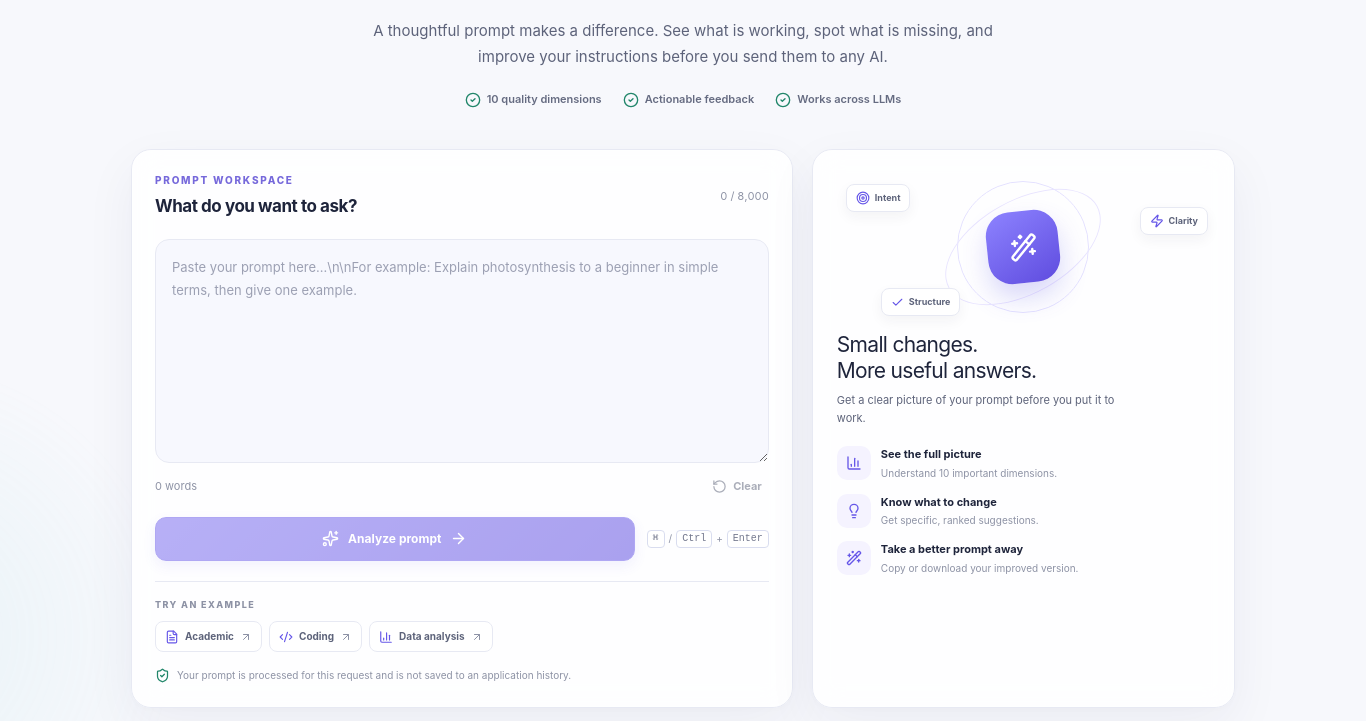
Test: Prompt Quality Analyzer UI › shows a useful error if the analysis API fails
(page scrolled)
Replace the text in the text box named "enter the prompt" with "Explain photosynthesis": point(462, 351) [155, 239, 769, 463]
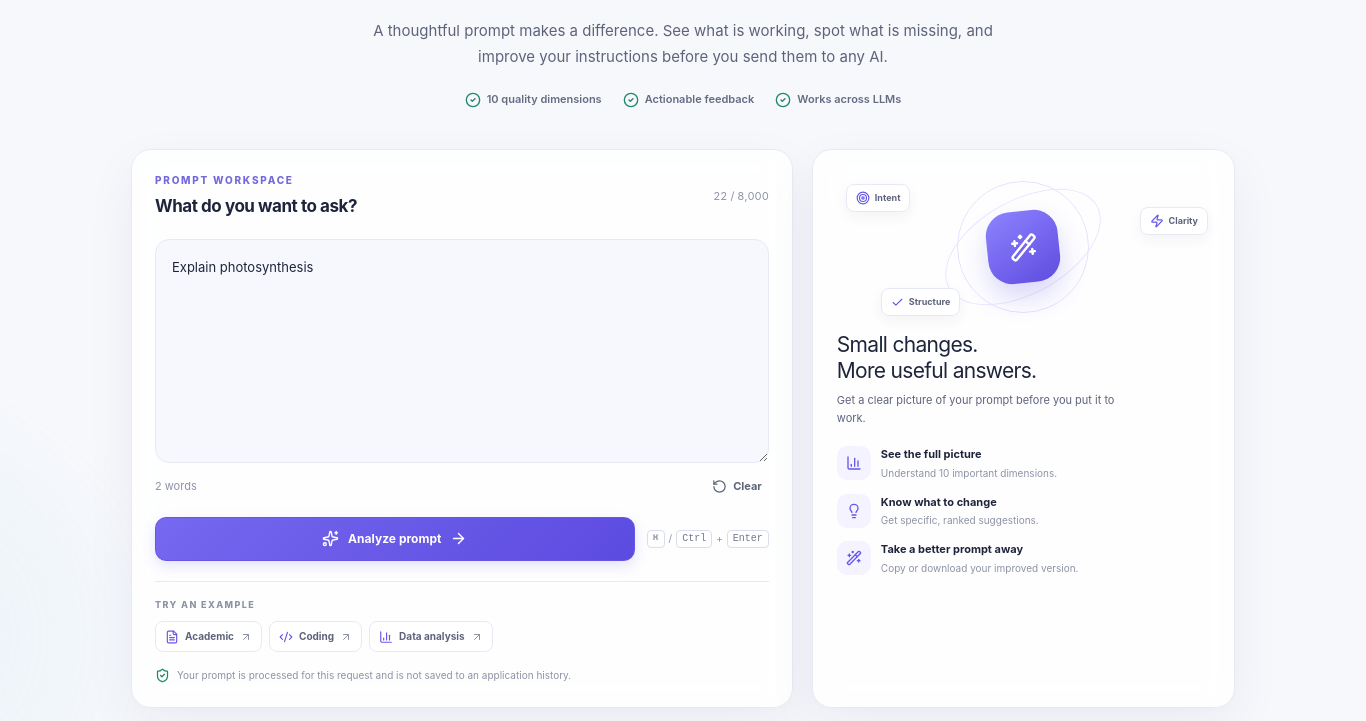
Click the button "Analyze prompt": point(395, 539) [155, 517, 634, 561]
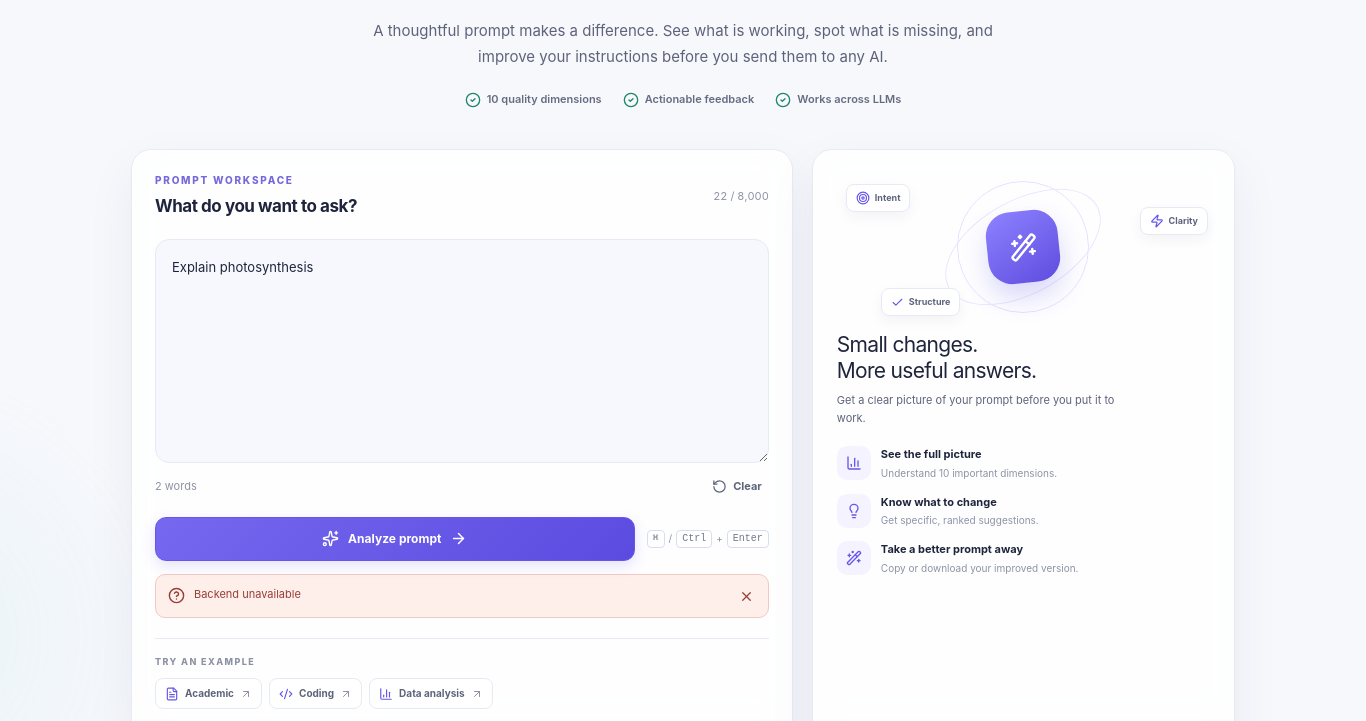
Now the message reads "Backend unavailable", box [194, 587, 301, 601]
